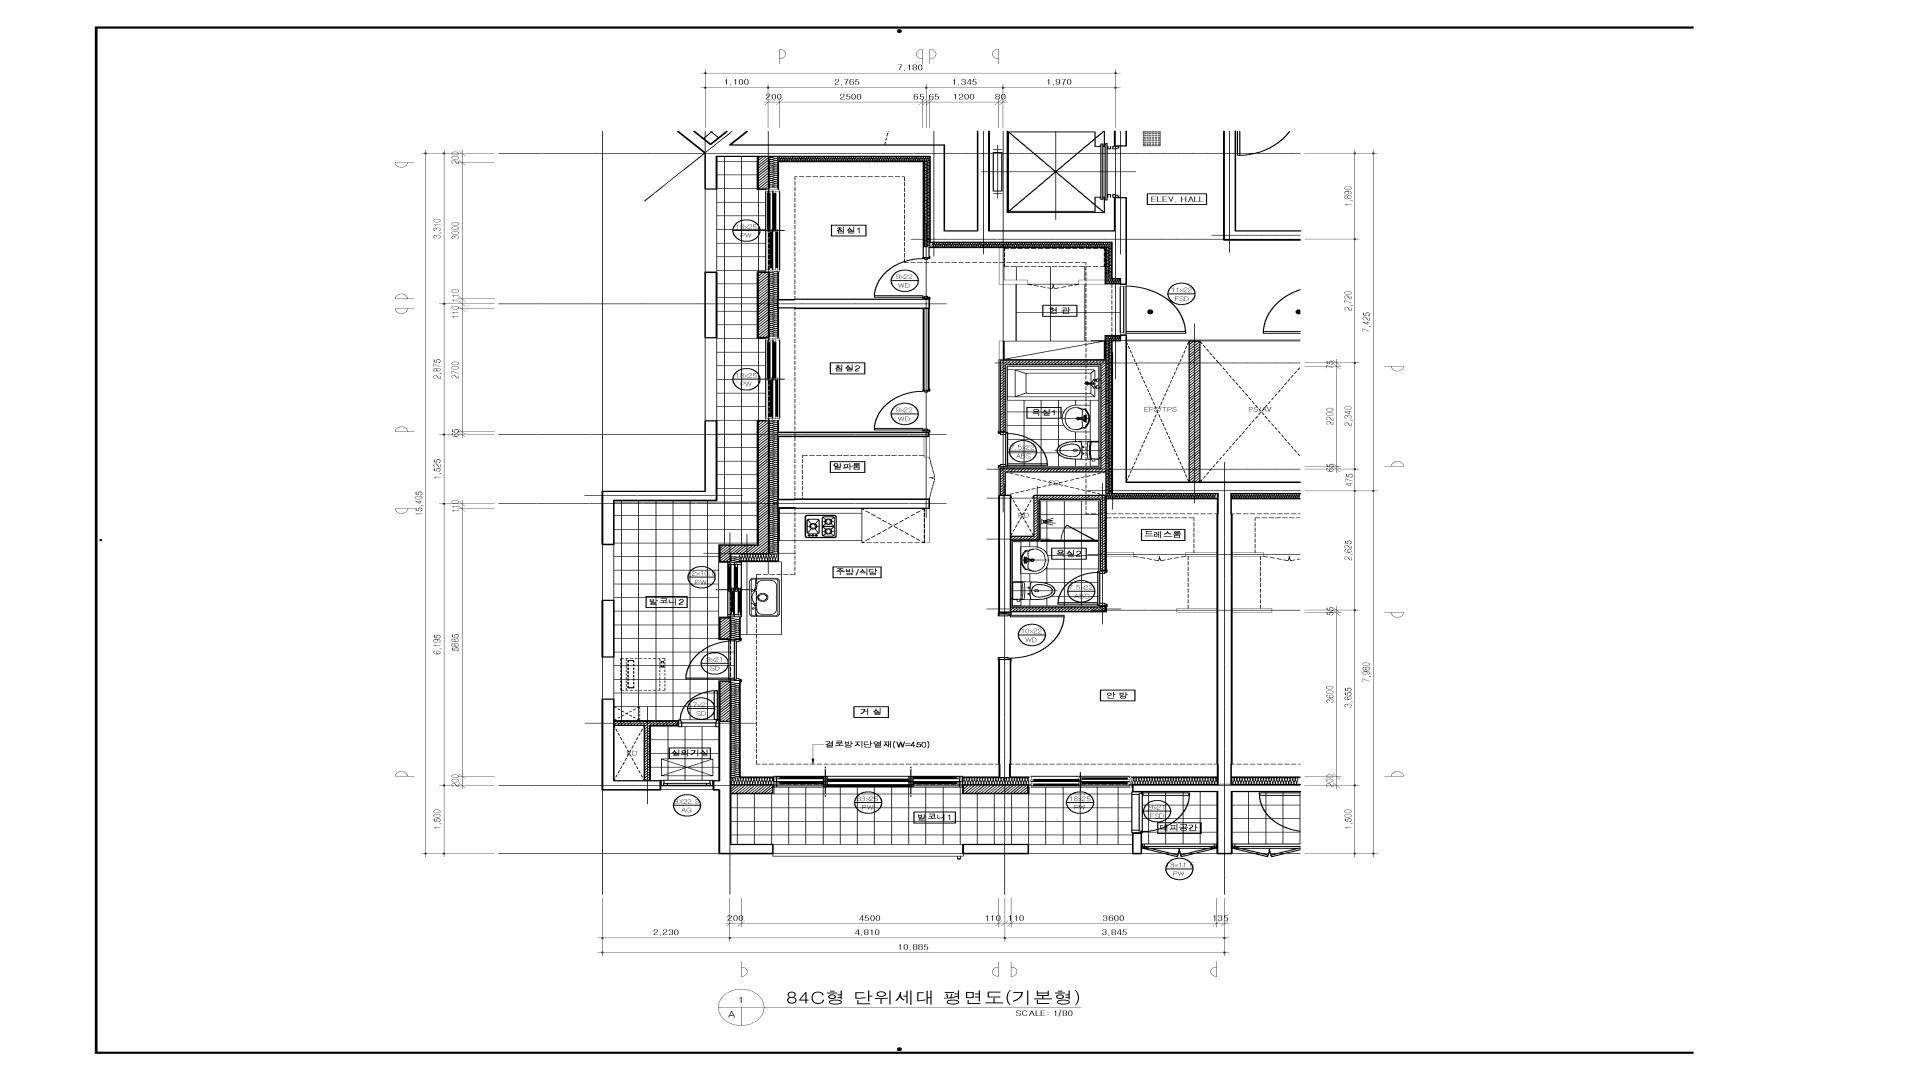background: (0, 0, 1920, 1080)
door: (1120, 285, 1187, 335), (998, 612, 1065, 659), (1131, 793, 1191, 833), (874, 257, 931, 298), (874, 390, 931, 431), (686, 640, 742, 680), (1058, 571, 1108, 607), (998, 433, 1048, 467), (678, 690, 719, 728), (1142, 844, 1217, 857), (1062, 525, 1096, 542), (926, 458, 935, 498), (1134, 554, 1185, 560), (1029, 284, 1079, 289)
wall: (1112, 335, 1302, 855), (676, 131, 1127, 285), (998, 359, 1106, 495), (601, 421, 717, 545), (777, 298, 930, 390), (1222, 131, 1302, 241), (713, 721, 773, 855), (1011, 495, 1106, 571), (719, 421, 770, 562), (777, 498, 930, 543), (1011, 542, 1106, 613), (601, 699, 661, 791), (778, 431, 930, 458), (615, 720, 678, 781), (1188, 342, 1200, 481), (998, 495, 1011, 613), (998, 659, 1011, 778), (1000, 248, 1029, 285), (757, 272, 770, 339), (704, 272, 717, 338), (601, 600, 615, 657), (963, 844, 1029, 855), (963, 785, 1029, 794), (719, 680, 732, 721), (757, 157, 770, 190), (732, 785, 774, 794), (719, 617, 732, 640), (1127, 340, 1300, 342), (1131, 833, 1142, 855), (1176, 608, 1216, 612), (1079, 280, 1105, 285), (1185, 553, 1216, 556), (1106, 553, 1134, 556), (923, 247, 930, 257)
window: (773, 844, 963, 857), (774, 775, 963, 787), (765, 338, 781, 421), (719, 562, 742, 617), (765, 190, 781, 272), (1029, 775, 1131, 787), (1029, 844, 1133, 855), (704, 338, 717, 421), (705, 190, 717, 272), (603, 545, 615, 600), (661, 779, 713, 790), (603, 657, 615, 699)
